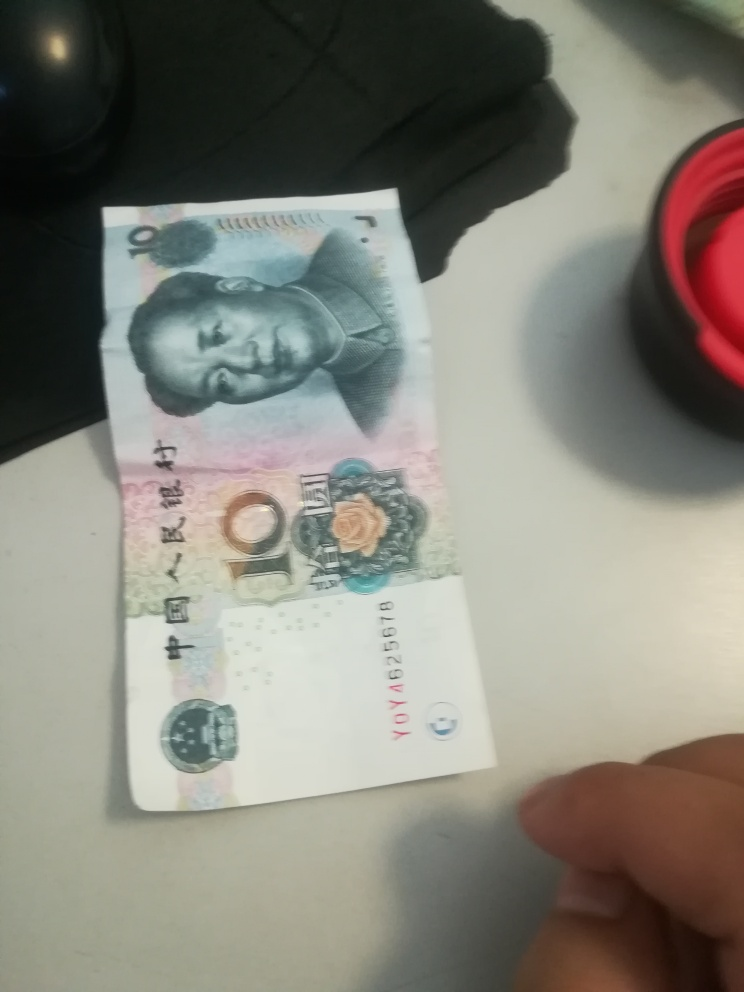rmb: (77, 187, 503, 818)
